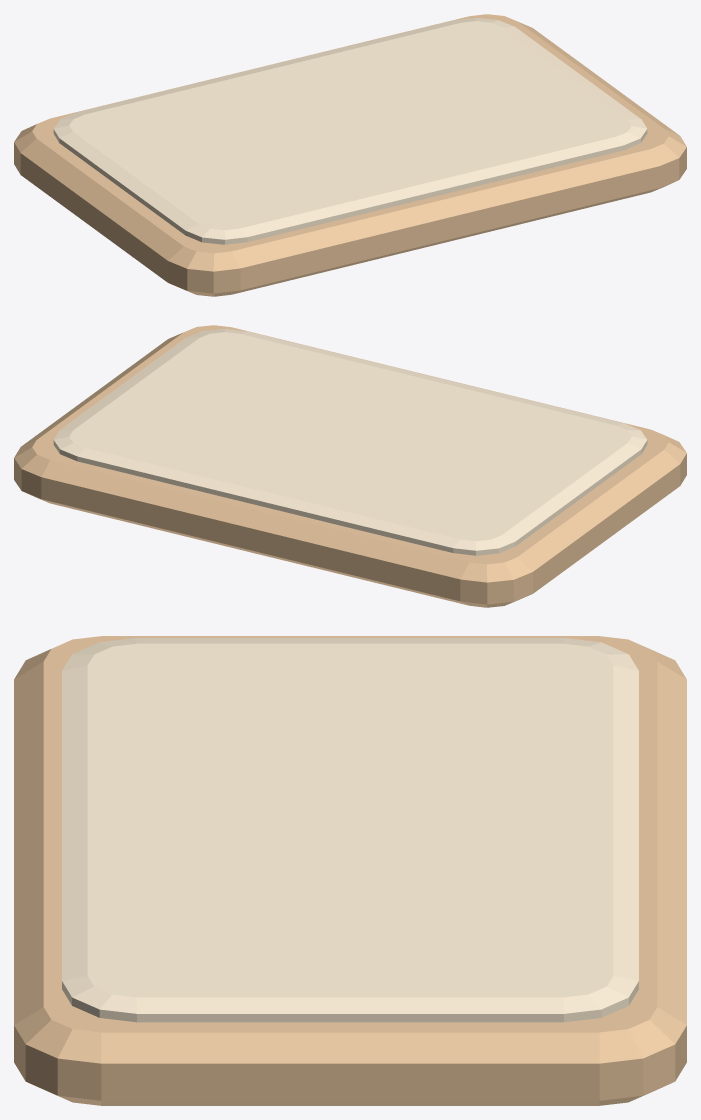
Rendered from serving_tray.glb.
3 renders of one model, top to bottom at view 1: azimuth 30°, elevation 25°; view 2: azimuth 150°, elevation 25°; view 3: azimuth 270°, elevation 25°, orthographic. The views are drawn at different scales.
Parts seen in each view (by area): view 1: model; view 2: model; view 3: model.
Boxes of the visible parts, x1,y1,x2,y2 form: model: (14, 14, 686, 296); model: (14, 325, 686, 607); model: (14, 636, 686, 1105).
Bounding box in the file's own units: 0.52 × 0.05 × 0.35.
